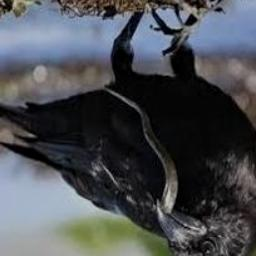Crow: (0, 9, 256, 256)
